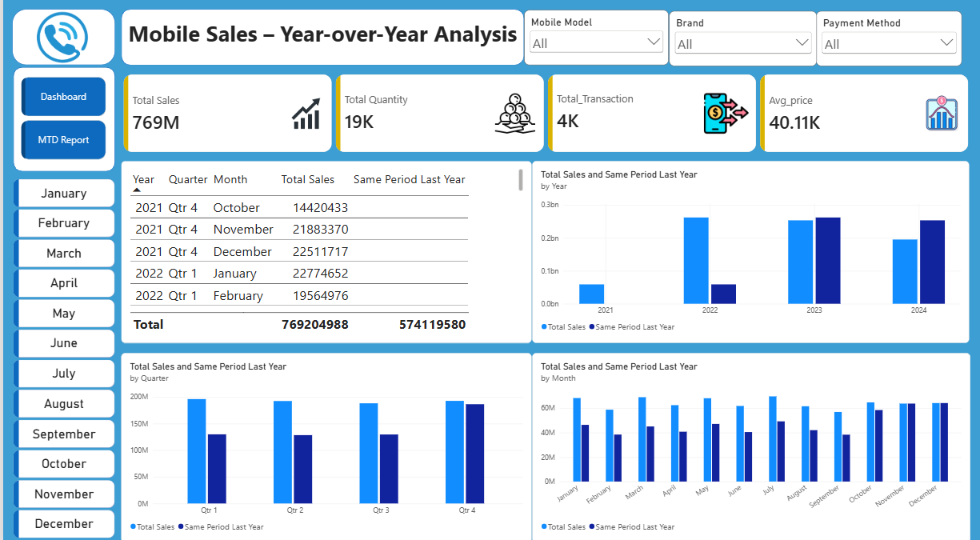

The dashboard page shown, as its layout file describes it:
{"tool":"powerbi","page":{"name":"Same Period Last Year","canvas":[1920,1080],"ordinal":2},"visuals":[{"type":"shape","box":[18,33.4,202,110],"z":0},{"type":"image","box":[60,27.4,110,126],"z":1000},{"type":"shape","box":[20,147.4,200,205],"z":2000},{"type":"cardVisual","fields":{"Data":["Sales_Data.Total_sales","Sales_Data.Total Quantity","Sales_Data.Total_Transaction","Sales_Data.Avg_price"]},"box":[231.6,155.9,1666.4,162.3],"z":3000},{"type":"tableEx","fields":{"Values":["Custom_Calendar.Date.Variation.Date Hierarchy.Year","Custom_Calendar.Date.Variation.Date Hierarchy.Quarter","Custom_Calendar.Date.Variation.Date Hierarchy.Month","Sales_Data.Total_sales","Sales_Data.Same Period Last Year"]},"box":[231.6,331.2,805.1,357.1],"z":5000},{"type":"advancedSlicerVisual","fields":{"Values":["Custom_Calendar.Date.Variation.Date Hierarchy.Month"]},"box":[19.8,366.2,199.6,713.7],"z":6000},{"type":"clusteredColumnChart","fields":{"Category":["Custom_Calendar.Date.Variation.Date Hierarchy.Year","Custom_Calendar.Date.Variation.Date Hierarchy.Quarter","Custom_Calendar.Date.Variation.Date Hierarchy.Month"],"Y":["Sales_Data.Total_sales","Sales_Data.Same Period Last Year"]},"box":[1036.6,331.2,857,357.1],"z":7000},{"type":"clusteredColumnChart","fields":{"Category":["Custom_Calendar.Date.Variation.Date Hierarchy.Year","Custom_Calendar.Date.Variation.Date Hierarchy.Quarter"],"Y":["Sales_Data.Total_sales","Sales_Data.Same Period Last Year"]},"box":[231.6,707.8,805.1,372.2],"z":8000},{"type":"clusteredColumnChart","fields":{"Category":["Custom_Calendar.Date.Variation.Date Hierarchy.Year","Custom_Calendar.Date.Variation.Date Hierarchy.Quarter","Custom_Calendar.Date.Variation.Date Hierarchy.Month","Custom_Calendar.Date.Variation.Date Hierarchy.Day"],"Y":["Sales_Data.Total_sales","Sales_Data.Same Period Last Year"]},"box":[1036.6,707.8,859.2,372.2],"z":9000},{"type":"pageNavigator","box":[34.6,166.7,166.6,162.3],"z":10000},{"type":"slicer","fields":{"Values":["Sales_Data.Mobile Model"]},"box":[1021.5,34.6,283.5,108.2],"z":11000},{"type":"slicer","fields":{"Values":["Sales_Data.Payment Method"]},"box":[1595,36.8,285.7,108.2],"z":12000},{"type":"slicer","fields":{"Values":["Sales_Data.Brand"]},"box":[1305,36.8,290,108.2],"z":13000},{"type":"shape","box":[231.6,32.5,789.9,110.4],"z":14000},{"type":"textbox","box":[244.5,51.9,766.1,73.6],"z":15000}]}

Visuals, with their boxes in screenshot pixels (x1, y1, x2, y2), scaled from the page's 1920x1080 canvas onto the 980x540 screenshot:
shape: (9, 17, 112, 72)
image: (31, 14, 87, 77)
shape: (10, 74, 112, 176)
cardVisual - Sales_Data.Total_sales x Sales_Data.Total Quantity: (118, 78, 969, 159)
tableEx - Custom_Calendar.Date.Variation.Date Hierarchy.Year x Custom_Calendar.Date.Variation.Date Hierarchy.Quarter: (118, 166, 529, 344)
advancedSlicerVisual - Custom_Calendar.Date.Variation.Date Hierarchy.Month: (10, 183, 112, 539)
clusteredColumnChart - Custom_Calendar.Date.Variation.Date Hierarchy.Year x Custom_Calendar.Date.Variation.Date Hierarchy.Quarter: (529, 166, 967, 344)
clusteredColumnChart - Custom_Calendar.Date.Variation.Date Hierarchy.Year x Custom_Calendar.Date.Variation.Date Hierarchy.Quarter: (118, 354, 529, 539)
clusteredColumnChart - Custom_Calendar.Date.Variation.Date Hierarchy.Year x Custom_Calendar.Date.Variation.Date Hierarchy.Quarter: (529, 354, 968, 539)
pageNavigator: (18, 83, 103, 164)
slicer - Sales_Data.Mobile Model: (521, 17, 666, 71)
slicer - Sales_Data.Payment Method: (814, 18, 960, 72)
slicer - Sales_Data.Brand: (666, 18, 814, 72)
shape: (118, 16, 521, 71)
textbox: (125, 26, 516, 63)
